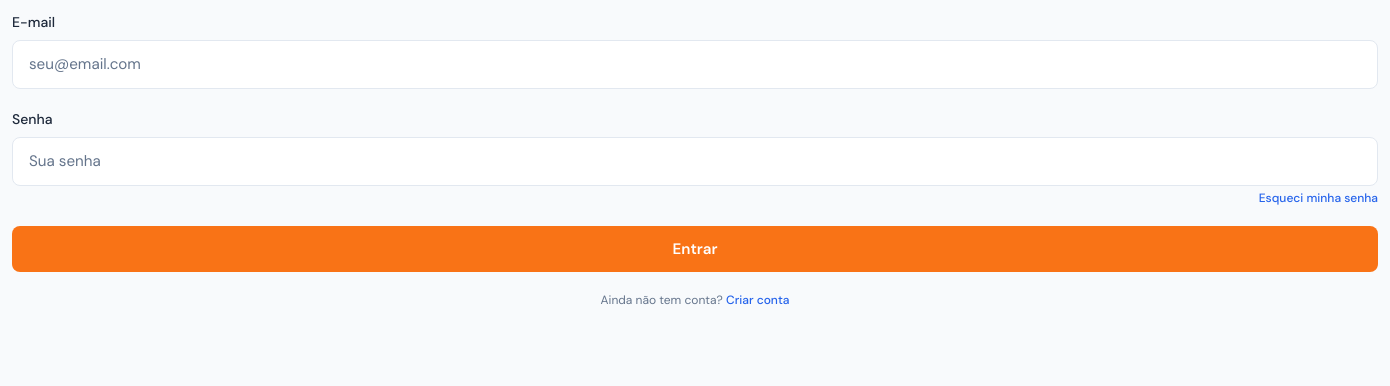
Scenario: identity/LoginForm › erro do servidor que não é CAPTCHA_REQUIRED não renderiza o widget
Type "maria@example.com" into the field labelled "E-mail" at (695, 64), box x1=12 y1=40 x2=1378 y2=89
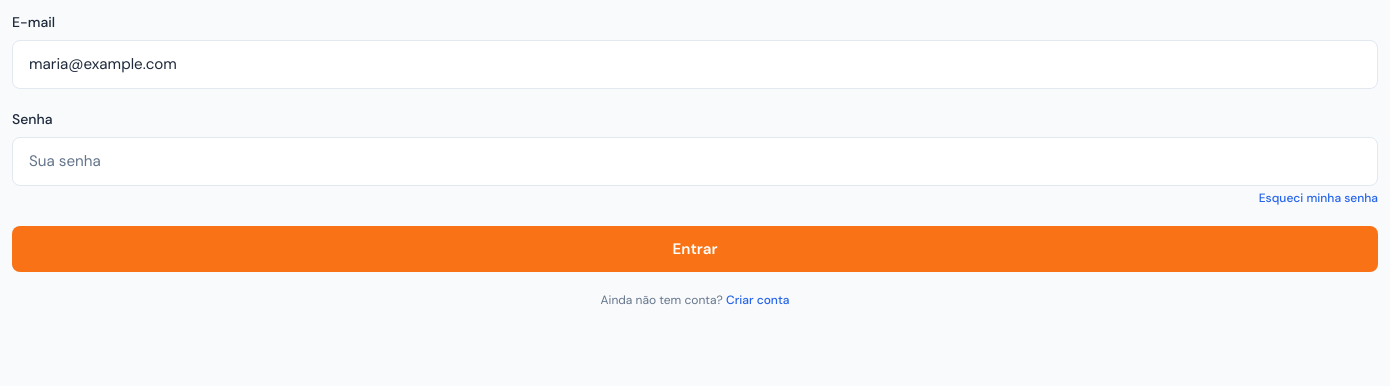
Type "senha1234" into the password field labelled "Senha" at (695, 161), box x1=12 y1=137 x2=1378 y2=186
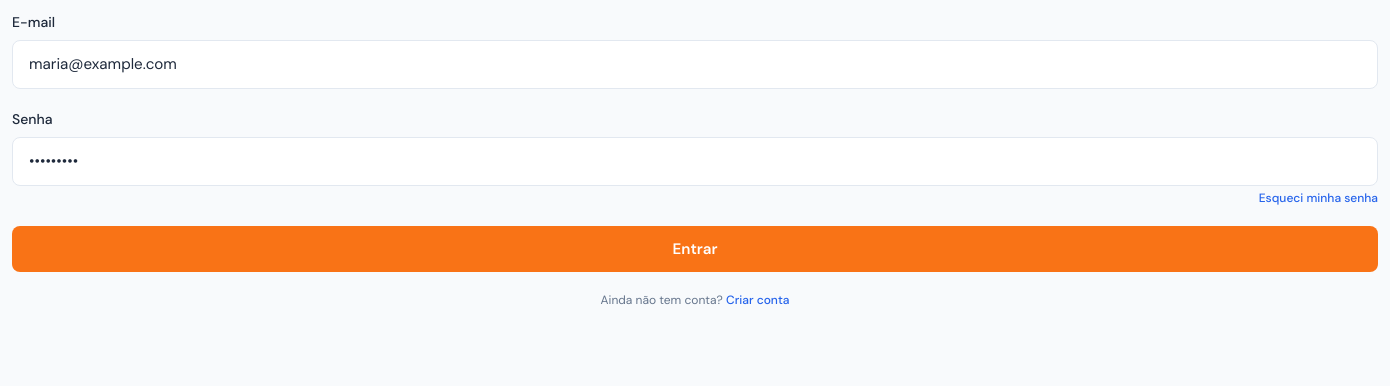
Click the button "Entrar" at (695, 249), box x1=12 y1=226 x2=1378 y2=272
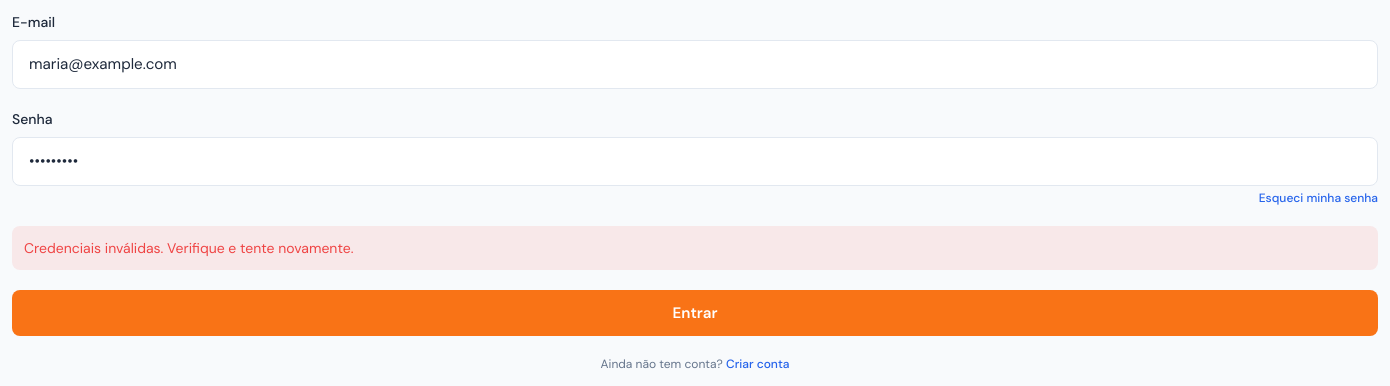
Now the text "Credenciais inválidas. Verifique e tente novamente." is shown, box x1=12 y1=226 x2=1378 y2=270
